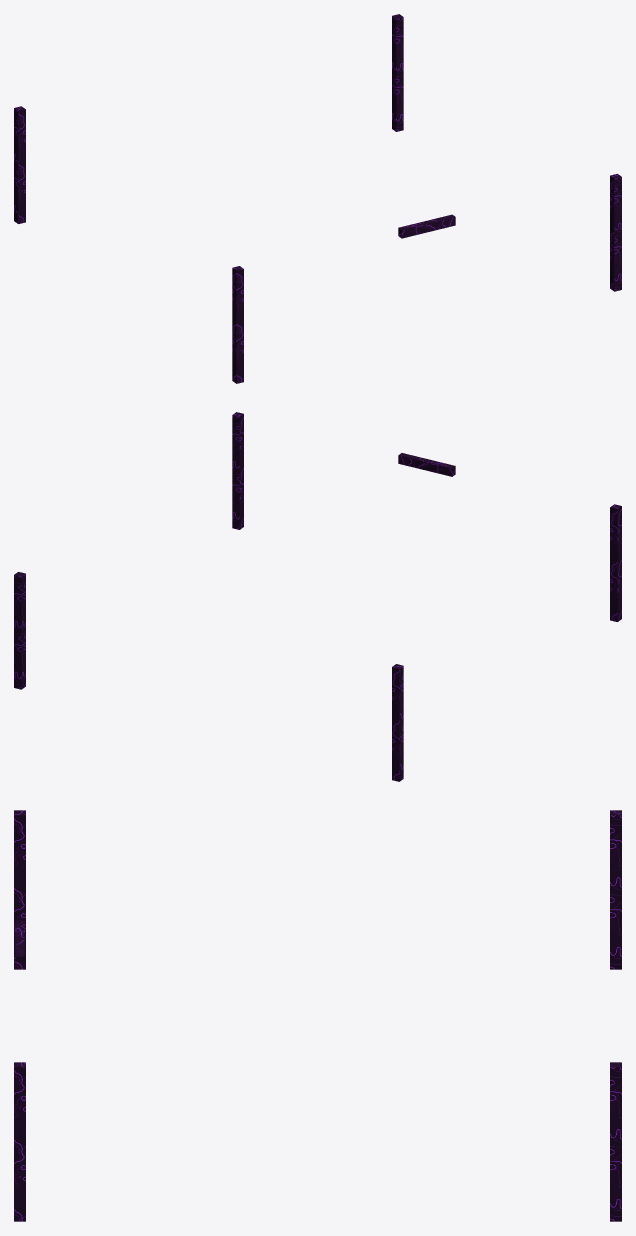
Rendered from accent-skin-9.glb.
3 views of the same model, one above another, from view 1: azimuth 30°, elevation 25°; view 2: azimuth 150°, elevation 25°; view 3: azimuth 270°, elevation 25° (orthographic). The views are drawn at different scales.
Visible parts, largest first — view 1: accent-skin-9; view 2: accent-skin-9; view 3: accent-skin-9.
Part boxes in pixels (bbox=[...]): accent-skin-9: bbox=[14, 14, 621, 383]; accent-skin-9: bbox=[14, 412, 621, 781]; accent-skin-9: bbox=[14, 810, 621, 1221].
Size of the model in its own units: 14.28 by 4 by 14.28.
1 material, 1 textured.
